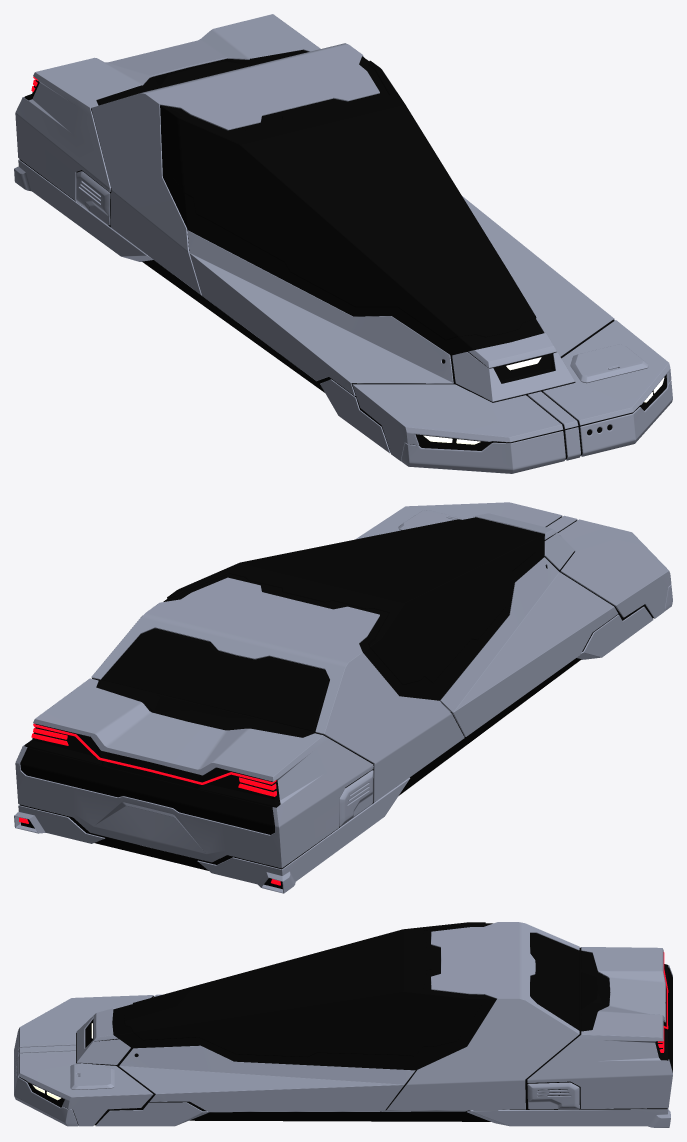
The model's file is veh026.glb.
3 renders of one model, top to bottom at view 1: azimuth 30°, elevation 25°; view 2: azimuth 150°, elevation 25°; view 3: azimuth 270°, elevation 25°, orthographic. The views are drawn at different scales.
Parts seen in each view (by area): view 1: sci-fi_car_26, sci-fi_car_26.002, sci-fi_car_26.001, sci-fi_car_26.011, sci-fi_car_26.009, sci-fi_car_26.004, sci-fi_car_26.008; view 2: sci-fi_car_26, sci-fi_car_26.002, sci-fi_car_26.001, sci-fi_car_26.003, sci-fi_car_26.005, sci-fi_car_26.004, sci-fi_car_26.006, sci-fi_car_26.008, sci-fi_car_26.009; view 3: sci-fi_car_26, sci-fi_car_26.002, sci-fi_car_26.001, sci-fi_car_26.003, sci-fi_car_26.004, sci-fi_car_26.008, sci-fi_car_26.011, sci-fi_car_26.009, sci-fi_car_26.005.
Part boxes in pixels (x1=…): sci-fi_car_26: x1=14, y1=14, x2=671, y2=461; sci-fi_car_26.002: x1=167, y1=60, x2=536, y2=340; sci-fi_car_26.001: x1=19, y1=50, x2=666, y2=459; sci-fi_car_26.011: x1=401, y1=380, x2=672, y2=473; sci-fi_car_26.009: x1=570, y1=344, x2=648, y2=383; sci-fi_car_26.004: x1=98, y1=50, x2=307, y2=104; sci-fi_car_26.008: x1=75, y1=171, x2=110, y2=225; sci-fi_car_26: x1=14, y1=502, x2=671, y2=893; sci-fi_car_26.002: x1=167, y1=519, x2=536, y2=684; sci-fi_car_26.001: x1=19, y1=516, x2=653, y2=889; sci-fi_car_26.003: x1=103, y1=630, x2=327, y2=731; sci-fi_car_26.005: x1=21, y1=748, x2=274, y2=833; sci-fi_car_26.004: x1=98, y1=681, x2=312, y2=737; sci-fi_car_26.006: x1=19, y1=723, x2=280, y2=885; sci-fi_car_26.008: x1=339, y1=770, x2=373, y2=826; sci-fi_car_26.009: x1=398, y1=510, x2=465, y2=530; sci-fi_car_26: x1=14, y1=922, x2=672, y2=1127; sci-fi_car_26.002: x1=124, y1=922, x2=485, y2=1057; sci-fi_car_26.001: x1=19, y1=923, x2=668, y2=1125; sci-fi_car_26.003: x1=531, y1=933, x2=579, y2=1030; sci-fi_car_26.004: x1=581, y1=951, x2=608, y2=1030; sci-fi_car_26.008: x1=527, y1=1082, x2=579, y2=1109; sci-fi_car_26.011: x1=14, y1=1031, x2=78, y2=1126; sci-fi_car_26.009: x1=70, y1=1063, x2=114, y2=1089; sci-fi_car_26.005: x1=668, y1=968, x2=672, y2=1072.
Size of the model in its own units: 2.04 by 1.12 by 5.61.
